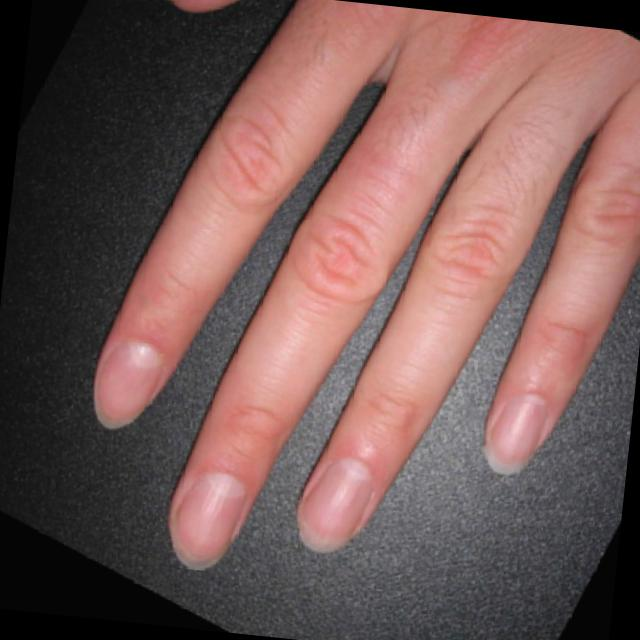Nail: (299, 459, 371, 550), (175, 473, 246, 564), (101, 342, 168, 428), (487, 395, 549, 474)
